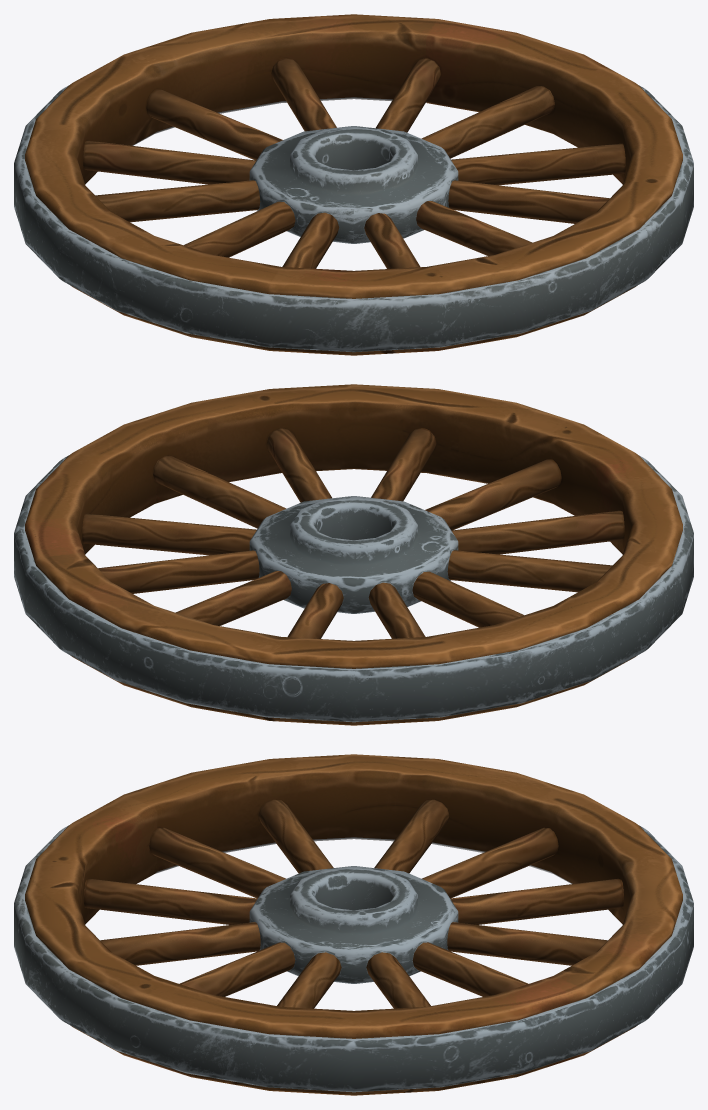
Rendered from Wheel.fbx.
3 views of the same model, one above another, from view 1: azimuth 30°, elevation 25°; view 2: azimuth 150°, elevation 25°; view 3: azimuth 270°, elevation 25° (orthographic).
Visible parts, largest first — view 1: WoodenWheel; view 2: WoodenWheel; view 3: WoodenWheel.
Part boxes in pixels (bbox=[...]): WoodenWheel: bbox=[14, 14, 693, 355]; WoodenWheel: bbox=[14, 384, 693, 725]; WoodenWheel: bbox=[14, 754, 693, 1095].
Bounding box in the file's own units: 97.53 × 10.49 × 97.53.
